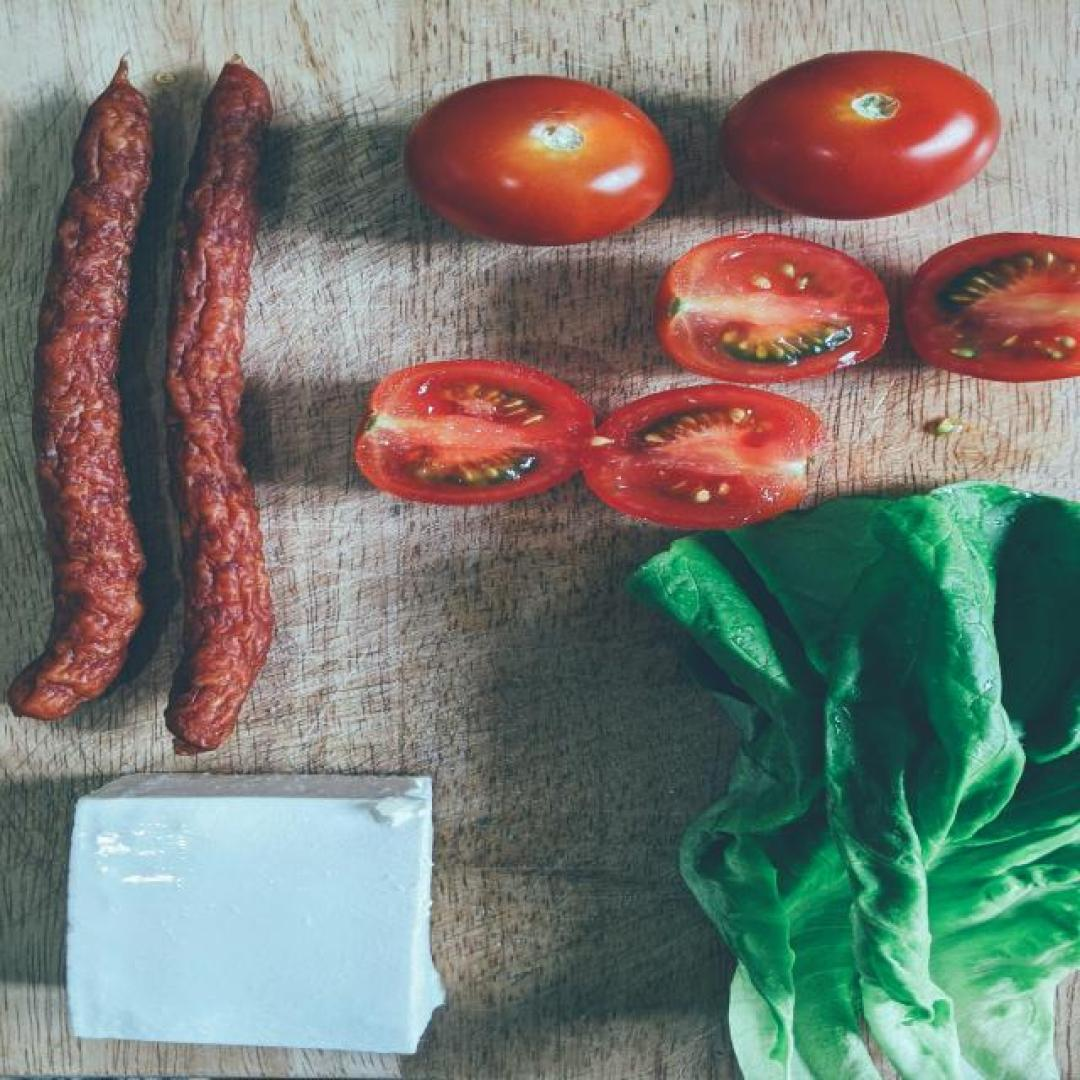matang: (716, 47, 1000, 221), (403, 74, 675, 250), (653, 233, 893, 386), (580, 386, 828, 528), (354, 360, 592, 506)
